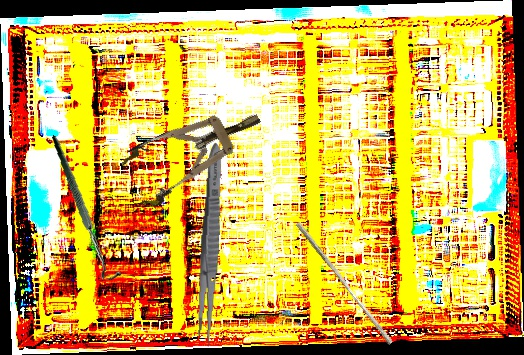Dressing Forceps: (194, 141, 227, 348)
Hook Surgical: (35, 135, 138, 282)
Pusher: (290, 221, 398, 346)
Speculum: (116, 90, 274, 213)
